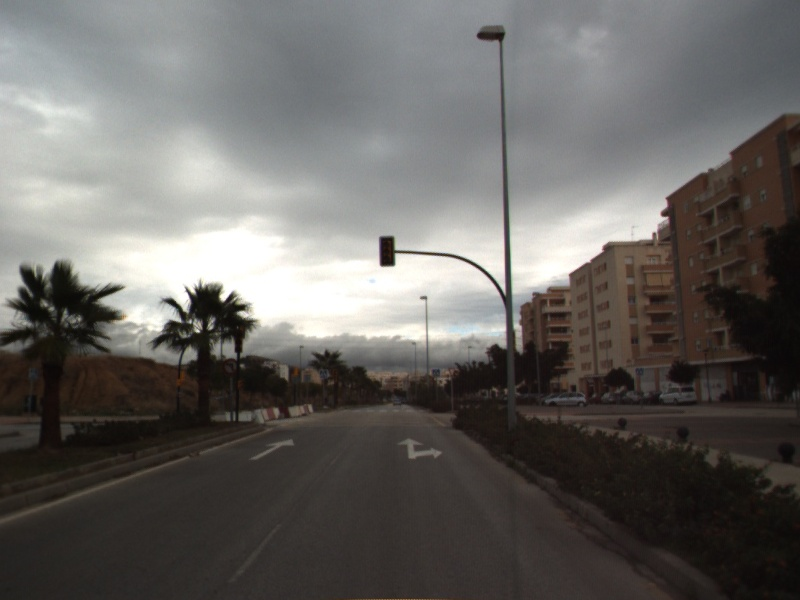STRAIGHT: (247, 437, 297, 462)
STRAIGHT_RIGHT: (395, 436, 445, 461)
